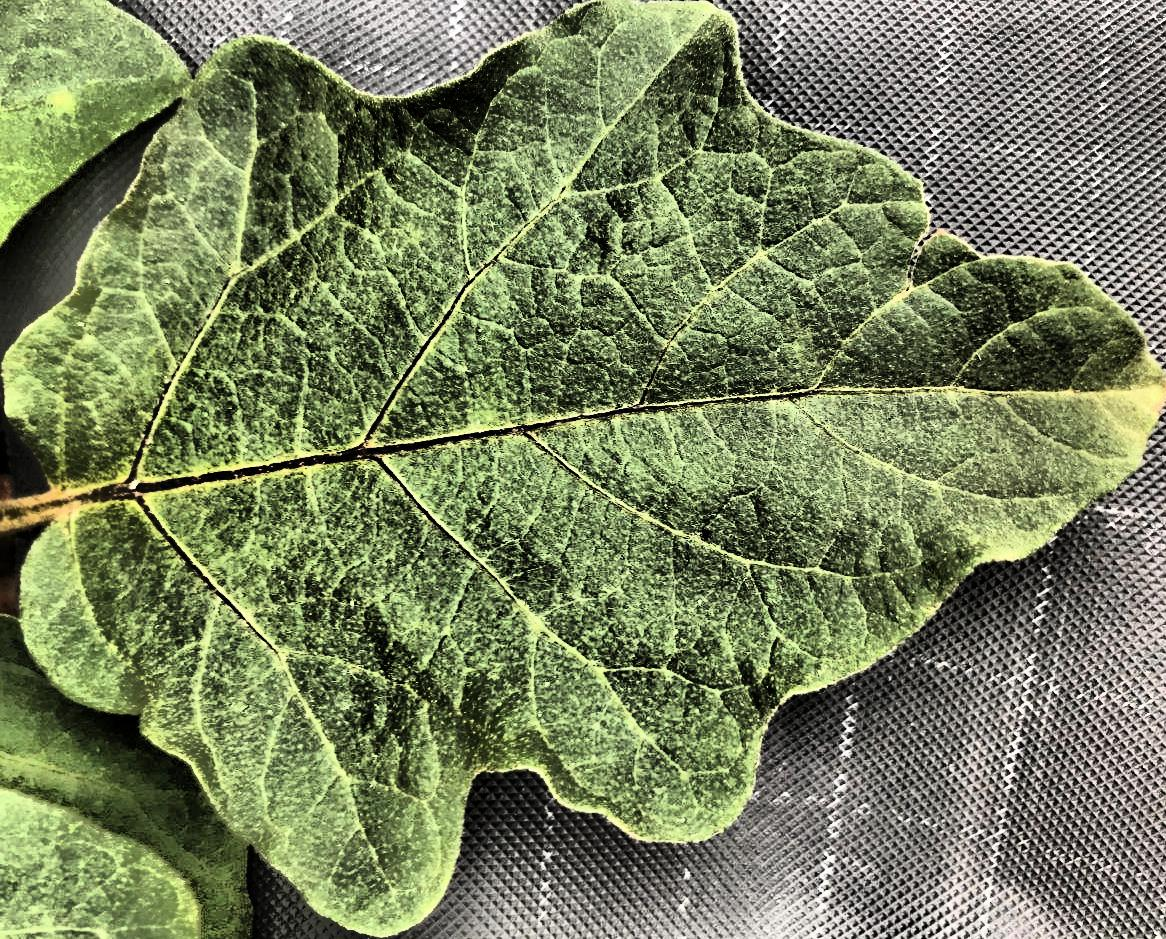HEALTHY: (1, 0, 1166, 939)
